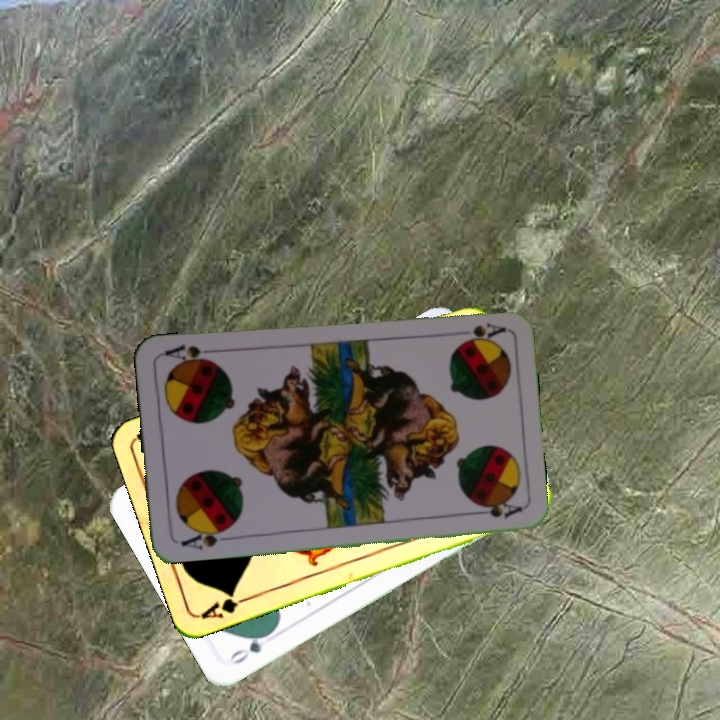GA: (197, 588, 254, 622)
GO: (225, 626, 276, 667)
SA: (177, 522, 234, 552), (461, 318, 508, 344)
